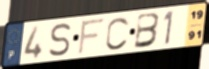1: (162, 9, 175, 47)
4: (22, 23, 45, 61)
B: (132, 11, 162, 51)
C: (104, 15, 132, 52)
F: (76, 16, 107, 56)
S: (47, 21, 73, 58)
